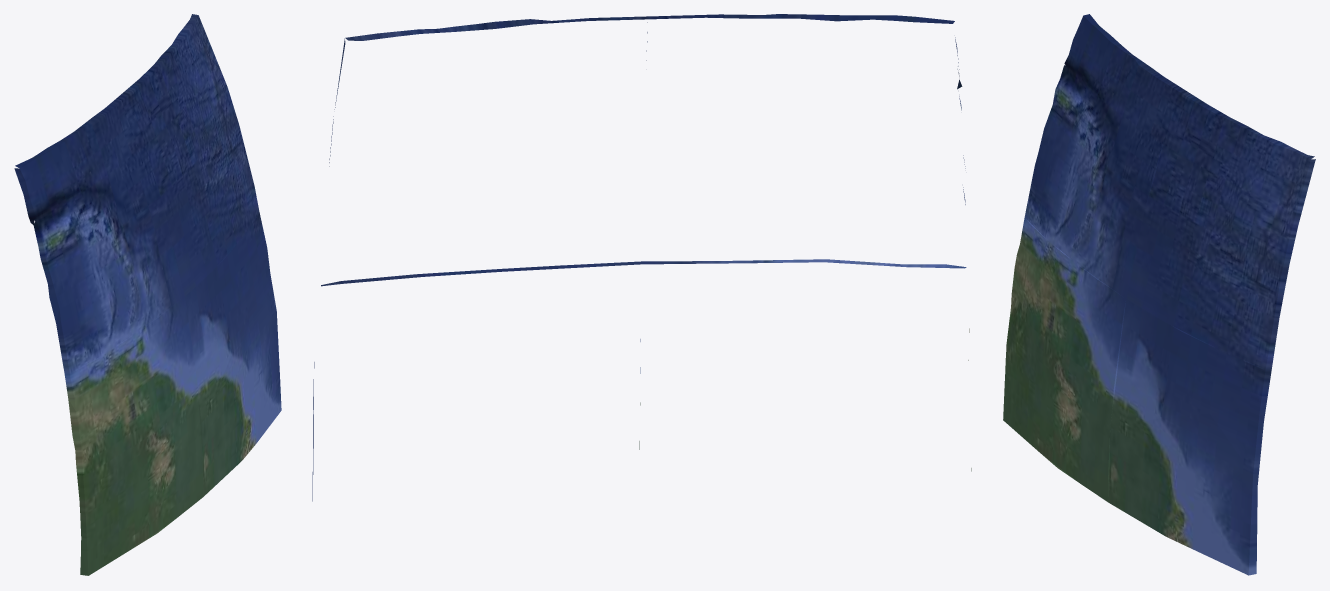
The picture shows the model from 3 angles, left to right: view 1: azimuth 30°, elevation 25°; view 2: azimuth 150°, elevation 25°; view 3: azimuth 270°, elevation 25°; orthographic projection. The views are drawn at different scales.
Size of the model in its own units: 2284457 by 2458682 by 1764426.
Materials: 1 (1 with a texture image).
